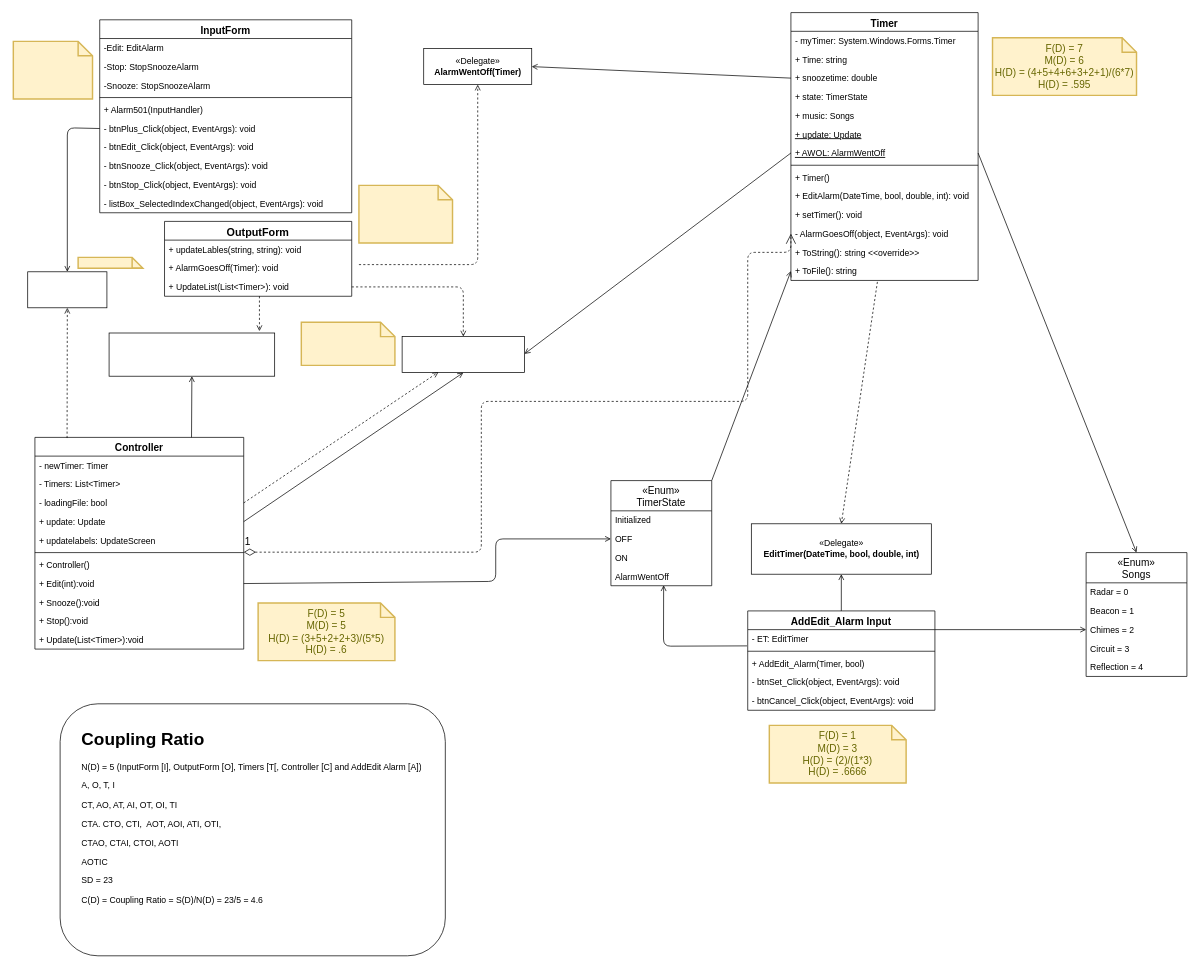
Some shapes in this 1200 by 968 pixel diagram are drawn without their labels. Here are the shapes that lost their labels. From the top down, the centre of each, then its label:
At (52,69): "F(D) = 3 M(D) = 6 H(D) = (3+2+2)/(3*6) H(D) = .38888".
At (405,213): "F(D) = 0 M(D) = 3 H(D) = 0/(0*3) H(D) = 1 or UNDEF".
At (110,262): "Will change".
At (67,289): "«Delegate» InputHandler(int)".
At (191,354): "«Delegate» UpdateScreen(string, string)".
At (347,343): "Might change UpdateController & UpdateOutput".
At (463,354): "«Delegate» Update(List<Timer>)".
